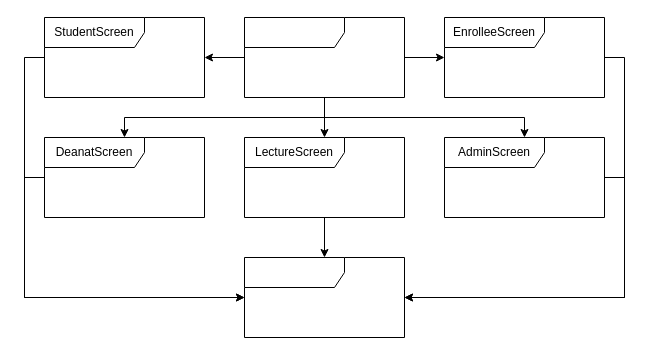
This 650x355 diagram has some shape labels left out. Here are the shapes that lost their labels. From the top down, the box of each, then its label:
(244, 16, 404, 98): LoginScreen
(244, 256, 404, 338): SettingsScreen
